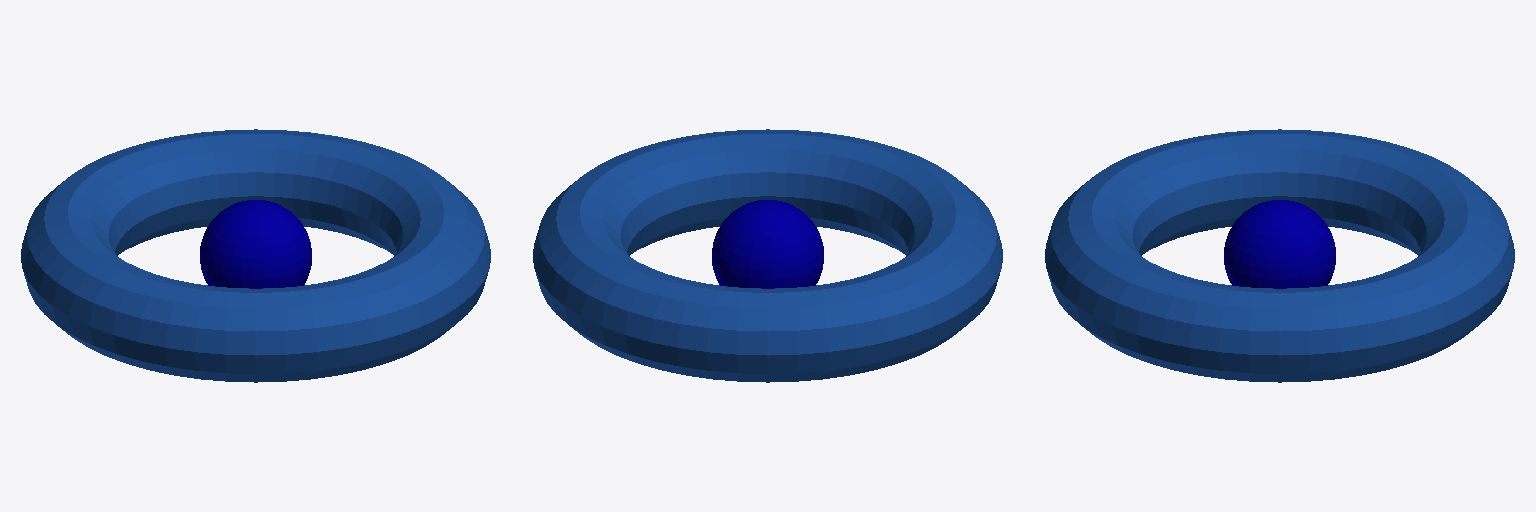
Rendered from palm.obj.
3 views of the same model, side by side, from view 1: azimuth 30°, elevation 25°; view 2: azimuth 150°, elevation 25°; view 3: azimuth 270°, elevation 25° (orthographic).
Parts seen in each view (by area): view 1: Torus, Sphere; view 2: Torus, Sphere; view 3: Torus, Sphere.
Part boxes in pixels (x1,y1,x2,y2): Torus: (21,129,490,382); Sphere: (200,200,311,288); Torus: (533,129,1002,382); Sphere: (712,200,823,288); Torus: (1045,129,1514,382); Sphere: (1224,200,1335,288).
Bounding box in the file's own units: 1.04 × 0.2492 × 1.04.